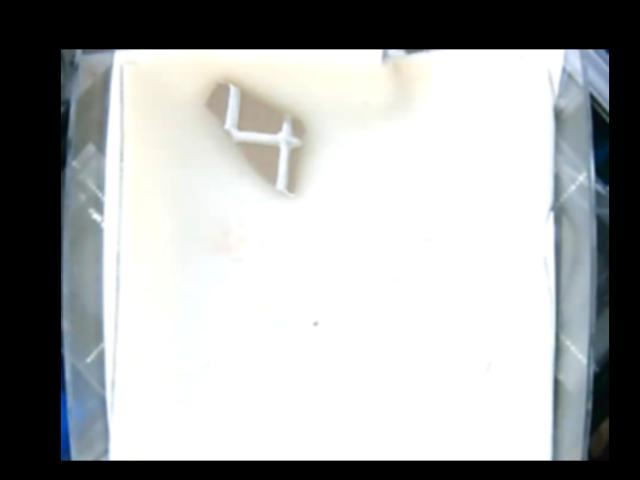China: (207, 81, 304, 199)
